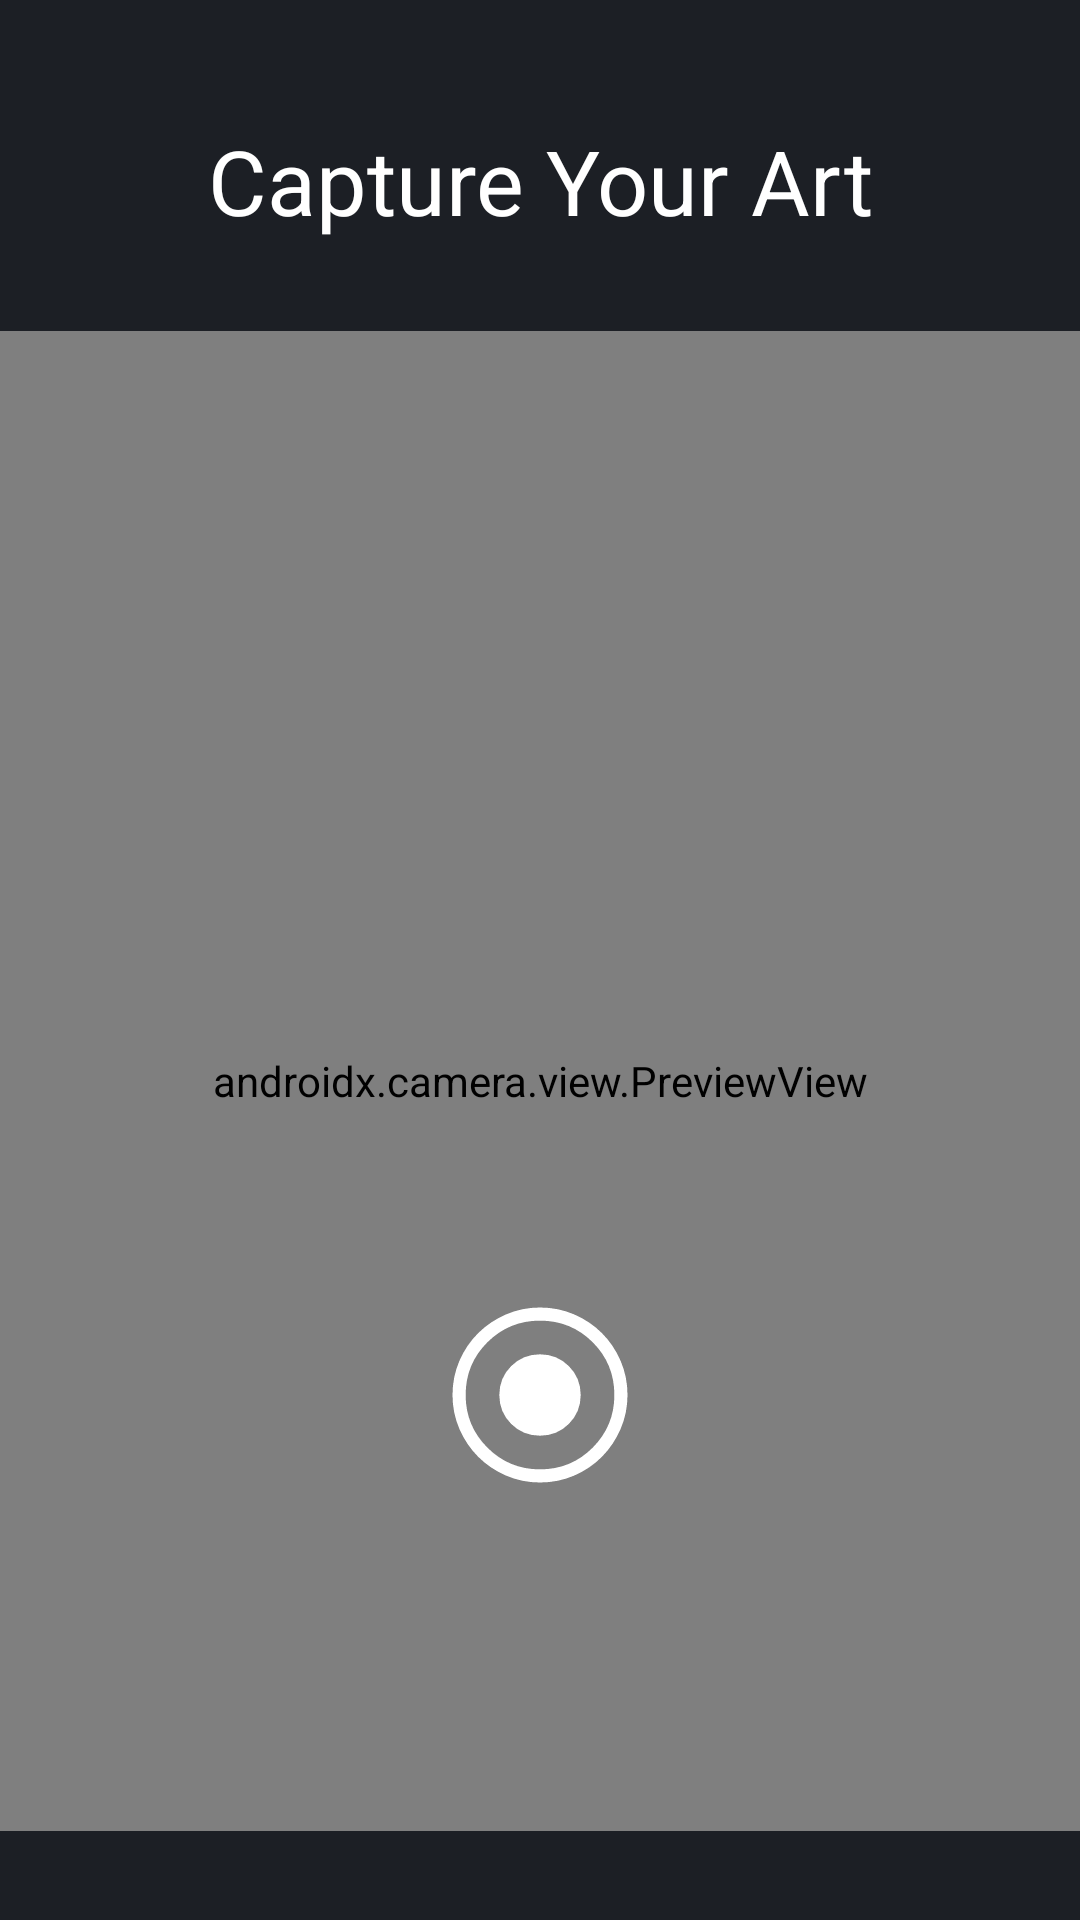

Icons on this 1080 × 1920 Android screen, each with its box as (x1=x1, y1=y1, x2=x2, y2=y2):
radio: (x1=452, y1=1307, x2=628, y2=1483)
